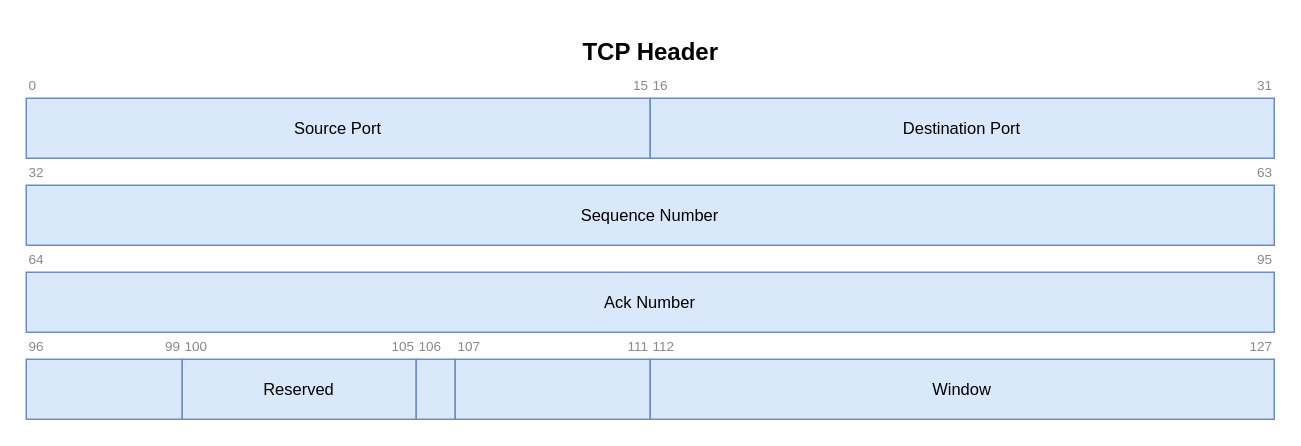
The diagram is 1301 pixels wide and 446 high, and some of its shapes have lost their labels. The centre of each missing label's shape, as x and y in pixels:
Offset: point 103,388
Other Flags: point 552,388
URG: point 435,388
